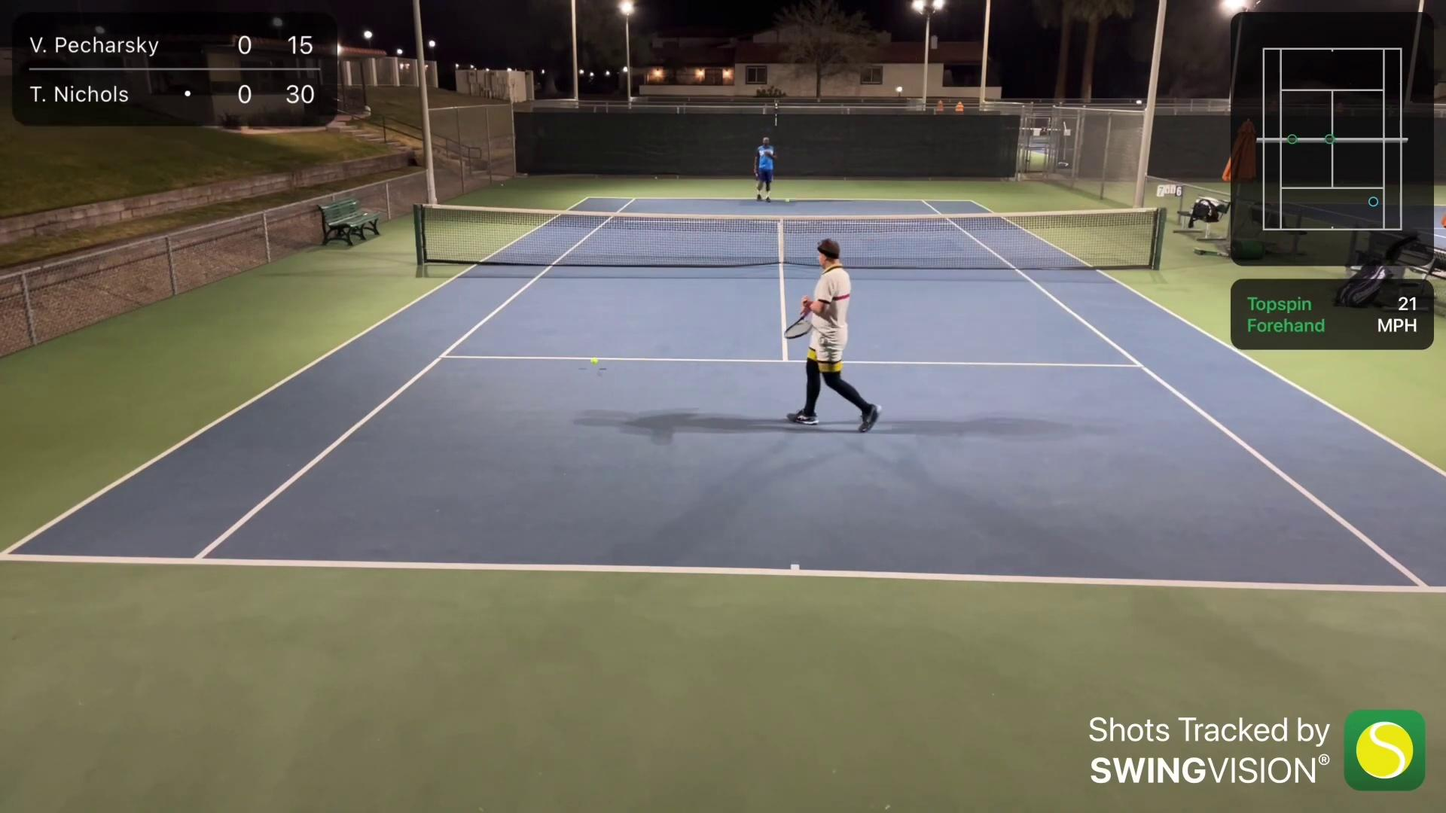ball: (586, 356, 601, 368), (784, 196, 791, 203)
